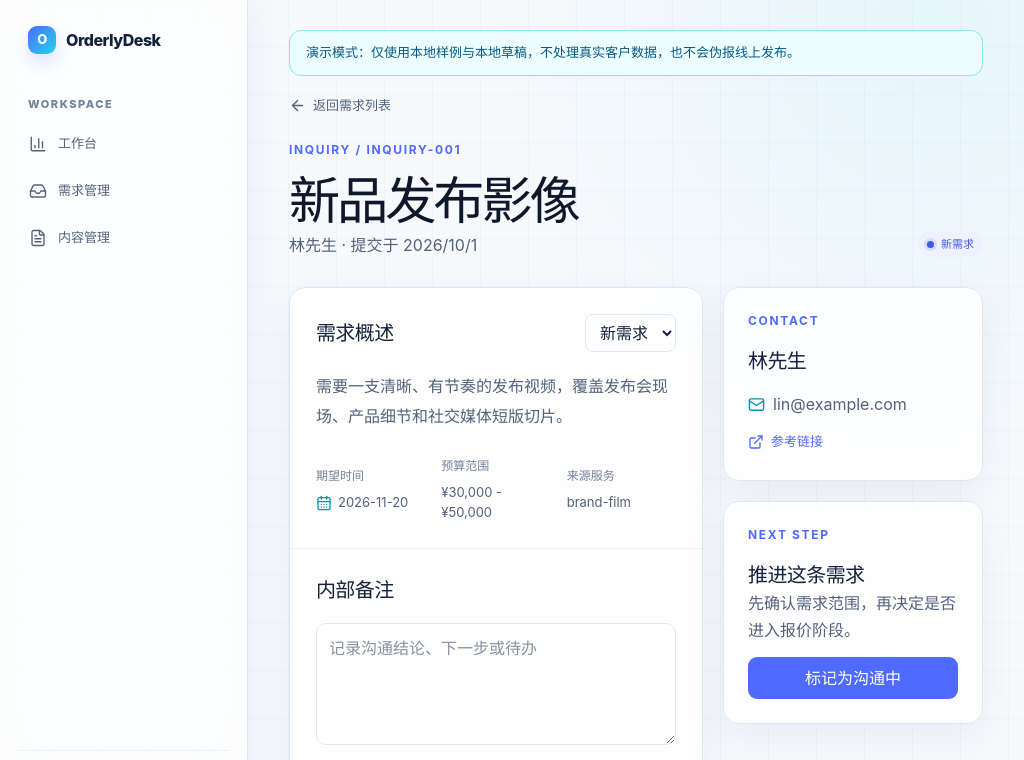
Scenario: private admin experience › shows inquiry detail and allows adding an internal note
The width and height of the screenshot is (1024, 760).
Step 1. Type "已安排首次沟通" into the text box with test id "inquiry-note" → (496, 684), box [316, 623, 676, 745]
(page scrolled)
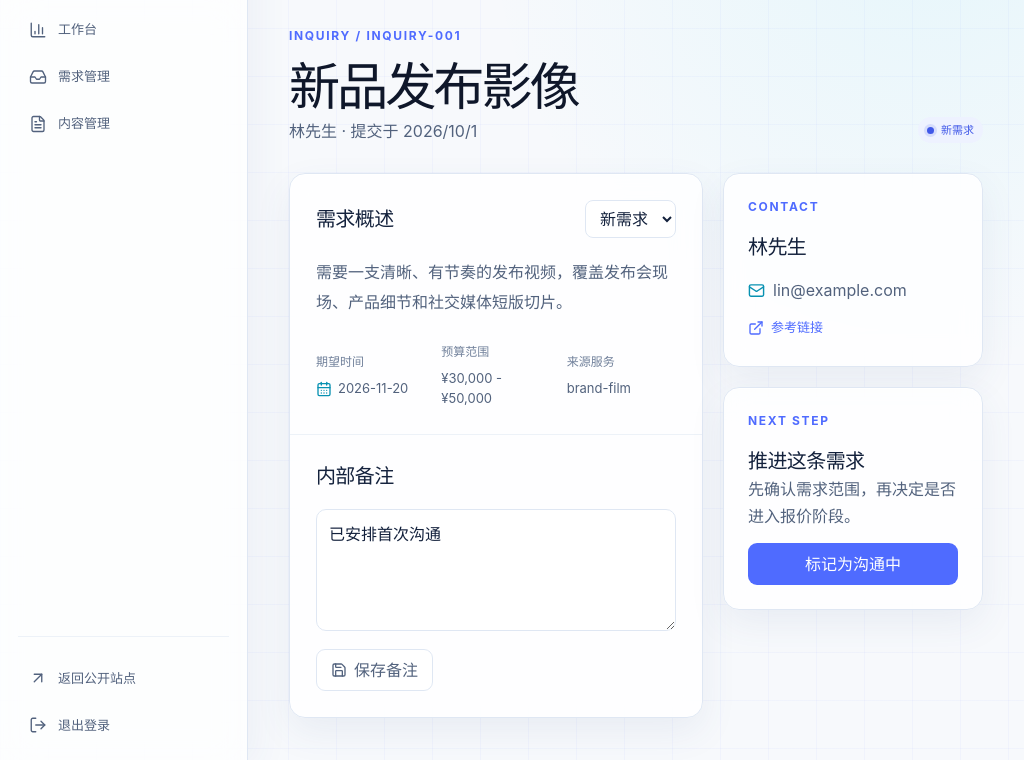
Step 2. Click the button with test id "save-inquiry-note" → (374, 670), box [316, 649, 433, 691]
(page scrolled)
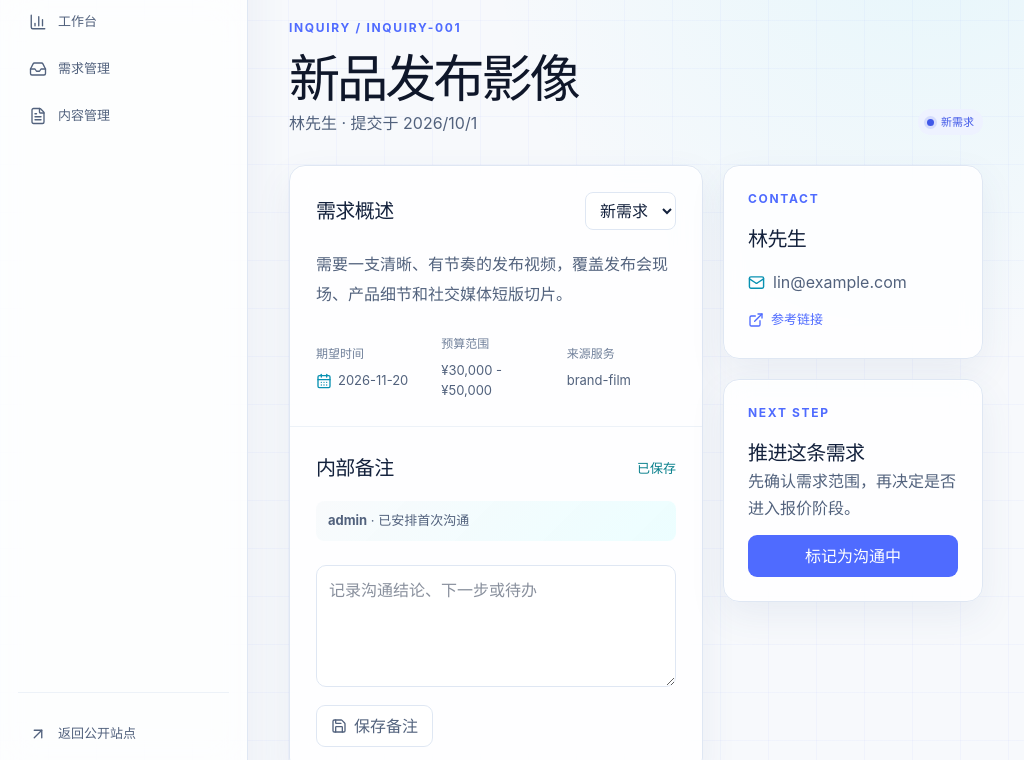
expect the text "已安排首次沟通" is shown: met, box [367, 512, 469, 528]
